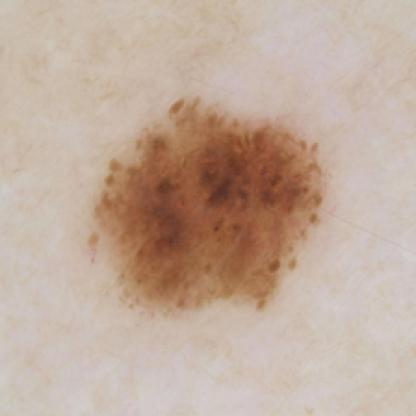benign: (93, 102, 327, 312)
